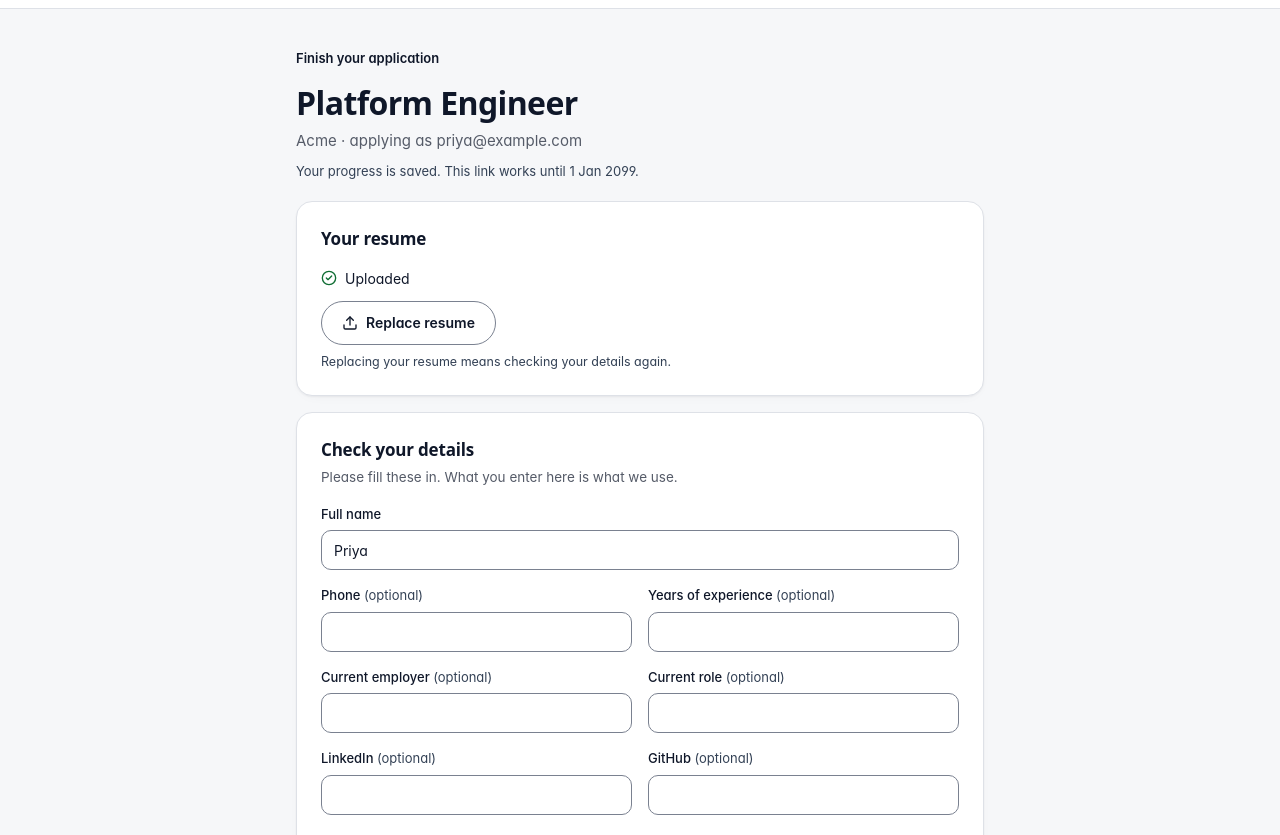
Test case: editing after confirming › asks for the details to be confirmed again before submitting
The image size is (1280, 835).
Type " Sharma" into the field labelled "Full name" at (640, 550), box [321,530,959,570]
(page scrolled)
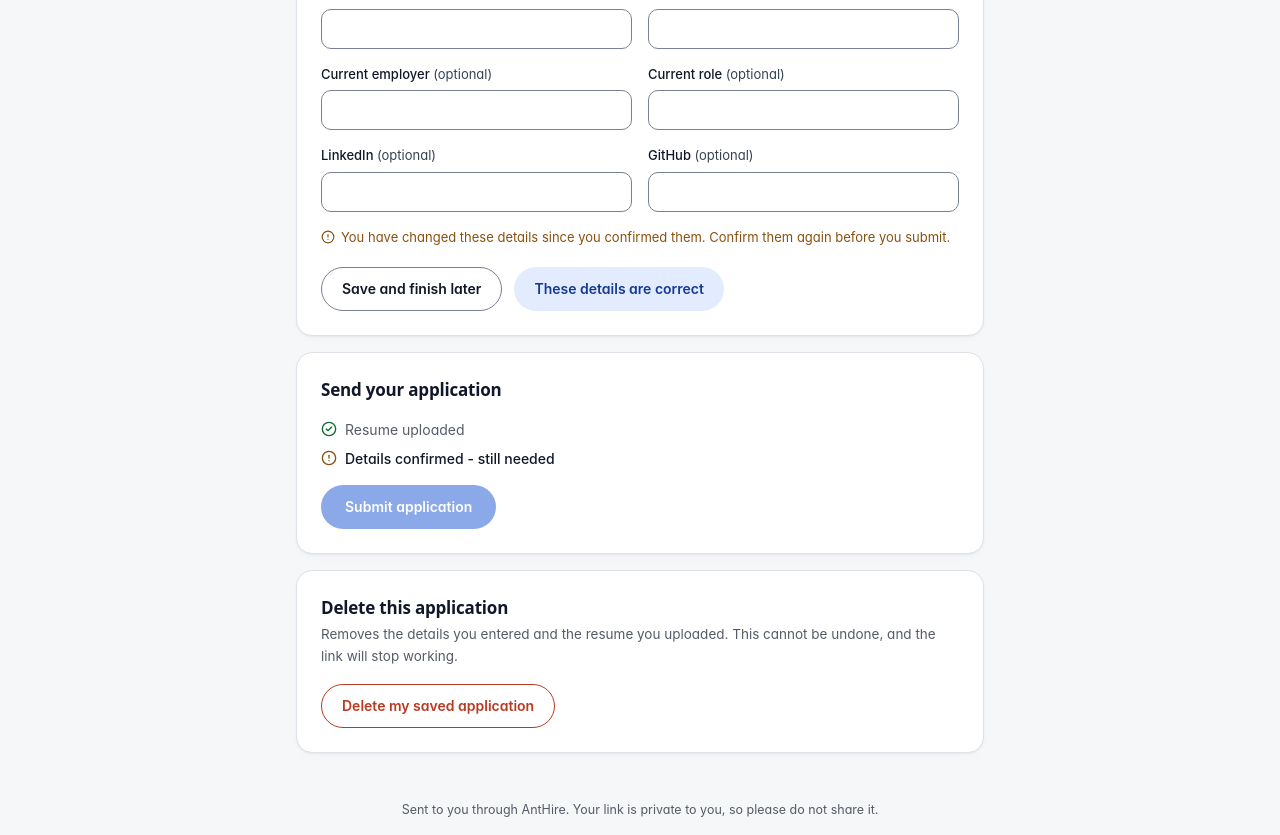
Now the text "changed these details since you confirmed them" is shown, box [341,229,950,245]
Now the button "Submit application" is disabled, box [321,485,496,529]
Now the text "Details confirmed - still needed" is shown, box [345,448,555,469]
